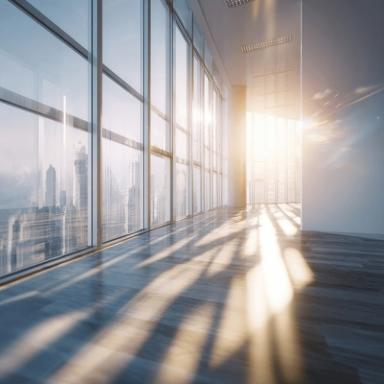glass_panel: (1, 59, 89, 274), (101, 70, 142, 245), (150, 1, 168, 220), (173, 19, 189, 219), (102, 1, 141, 62), (151, 152, 170, 226), (202, 63, 211, 210), (193, 51, 200, 211), (150, 160, 168, 218), (216, 84, 224, 207), (176, 162, 188, 220), (172, 0, 191, 33)
